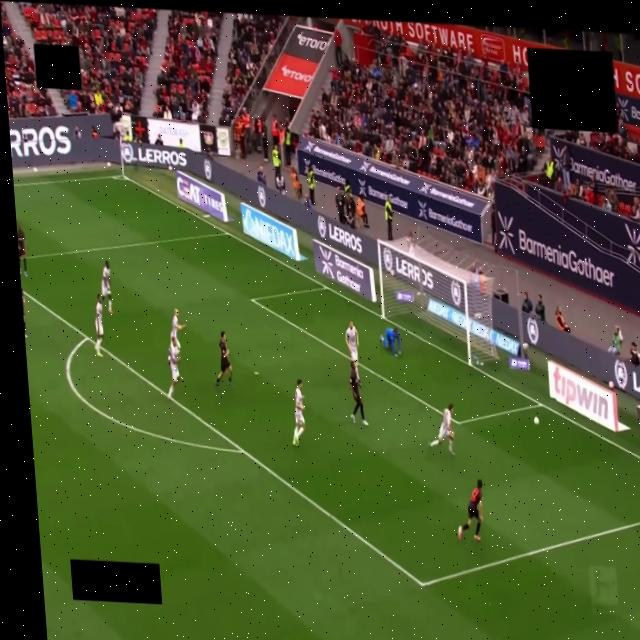ball: (534, 417, 538, 425)
player: (458, 479, 483, 541), (429, 404, 454, 454), (349, 361, 368, 425), (216, 331, 232, 386), (345, 321, 359, 383), (293, 379, 305, 446), (168, 337, 180, 399), (101, 260, 113, 315), (171, 309, 186, 348), (95, 294, 104, 357), (381, 328, 401, 356), (17, 224, 27, 276), (21, 289, 27, 338)
